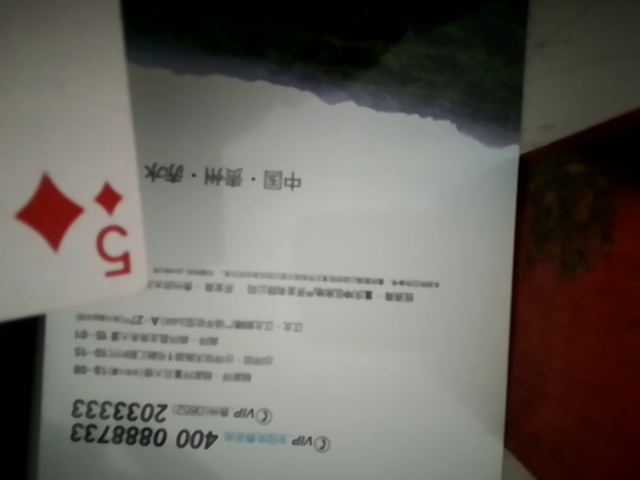fk 5: (0, 0, 171, 397)
